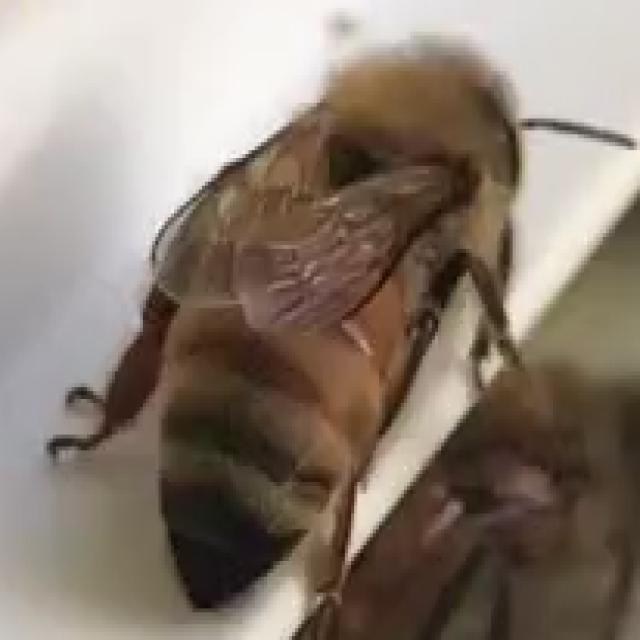honeybee: (64, 39, 506, 589)
